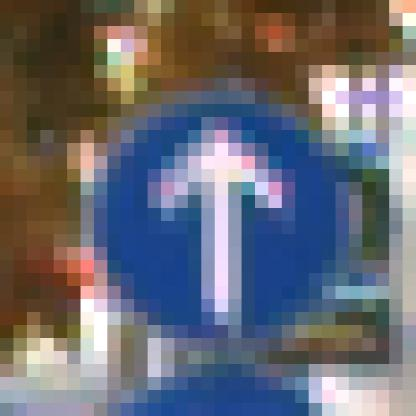AheadOnly: (81, 79, 350, 352)
